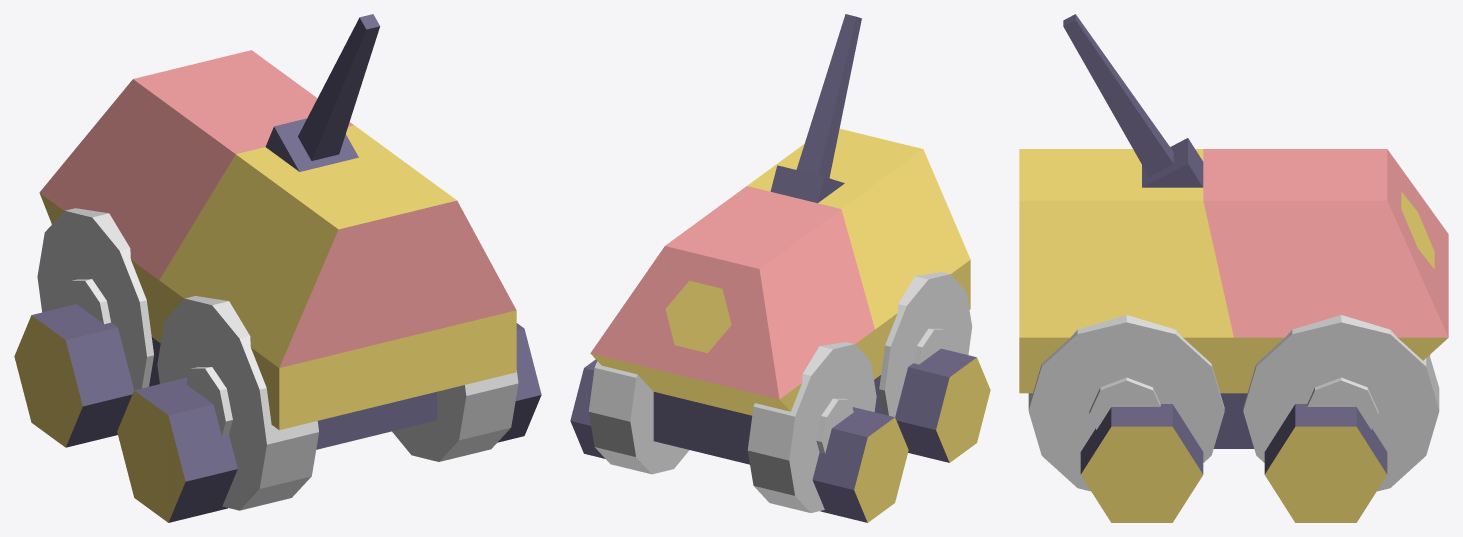
File: vehicle_pyh.glb
3 renders of one model, left to right at view 1: azimuth 30°, elevation 25°; view 2: azimuth 150°, elevation 25°; view 3: azimuth 270°, elevation 25°, orthographic. The views are drawn at different scales.
Visible parts, largest first — view 1: rover, wheel_bl, wheel_fl, wheel_br, wheel_bl_hub, wheel_fl_hub; view 2: rover, wheel_fl, wheel_fr, wheel_bl, wheel_fl_hub, wheel_bl_hub; view 3: rover, wheel_fr, wheel_br, wheel_br_hub, wheel_fr_hub.
Part boxes in pixels (x1=…): rover: x1=14, y1=14, x2=541, y2=522; wheel_bl: x1=157, y1=296, x2=318, y2=510; wheel_fl: x1=37, y1=208, x2=153, y2=390; wheel_br: x1=392, y1=370, x2=518, y2=461; wheel_bl_hub: x1=186, y1=367, x2=232, y2=435; wheel_fl_hub: x1=64, y1=279, x2=110, y2=324; rover: x1=570, y1=14, x2=990, y2=522; wheel_fl: x1=747, y1=342, x2=876, y2=512; wheel_fr: x1=588, y1=361, x2=689, y2=474; wheel_bl: x1=879, y1=272, x2=972, y2=416; wheel_fl_hub: x1=816, y1=398, x2=853, y2=453; wheel_bl_hub: x1=913, y1=328, x2=950, y2=364; rover: x1=1019, y1=14, x2=1448, y2=522; wheel_fr: x1=1243, y1=315, x2=1439, y2=491; wheel_br: x1=1028, y1=315, x2=1224, y2=491; wheel_br_hub: x1=1089, y1=377, x2=1160, y2=429; wheel_fr_hub: x1=1307, y1=377, x2=1378, y2=429.
Size of the model in its own units: 0.8955 by 1.15 by 1.04.
